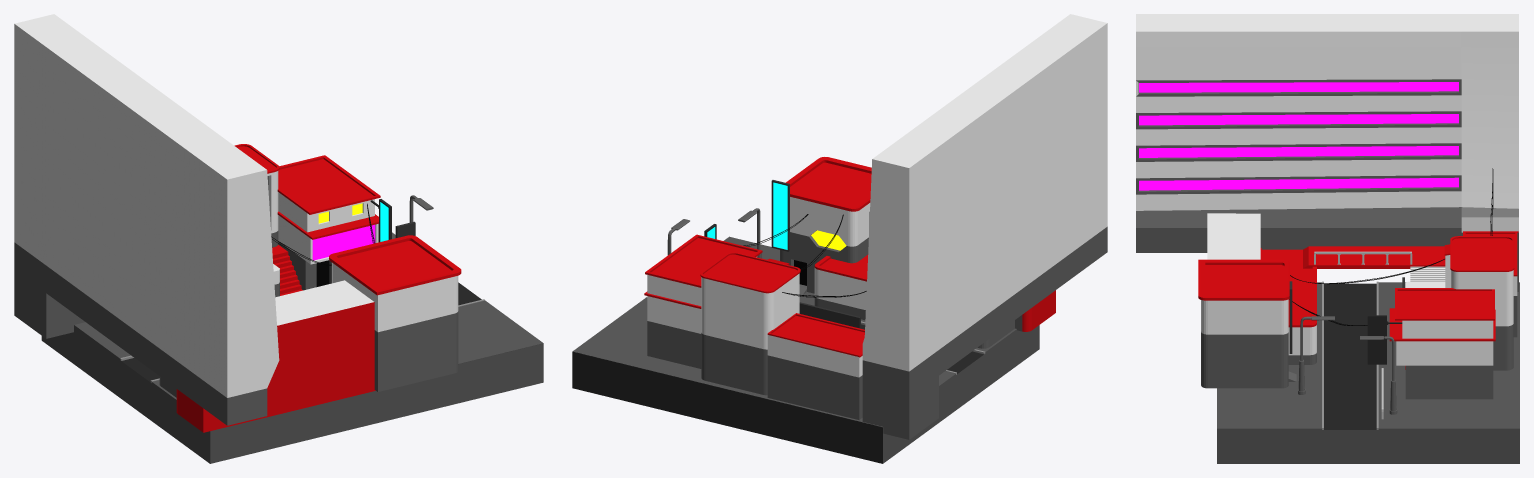
The model's file is Cyberpunk Street.fbx.
The picture shows the model from 3 angles, left to right: view 1: azimuth 30°, elevation 25°; view 2: azimuth 150°, elevation 25°; view 3: azimuth 270°, elevation 25°; orthographic projection. The views are drawn at different scales.
Parts seen in each view (by area): view 1: Massive Wall, Bridge, Street, Building 1, Building 2, Screen Attached; view 2: Massive Wall, Street, Bridge, Building 2, Building 4, Building 1, Screen.002, Screen; view 3: Massive Wall, Street, Bridge, Building 1, Building 2, Screen Attached, Building 4, Stairs, BézierCurve, Rails, Streetlight, Streetlight.001.
Boxes of the visible parts, box(x1,y1,x2,y2) form: Massive Wall: box(14, 14, 279, 425); Bridge: box(159, 235, 461, 432); Street: box(41, 223, 543, 463); Building 1: box(277, 155, 380, 290); Building 2: box(234, 144, 279, 247); Screen Attached: box(370, 199, 391, 242); Massive Wall: box(862, 14, 1107, 439); Street: box(572, 236, 1039, 463); Bridge: box(780, 157, 1055, 348); Building 2: box(700, 252, 800, 395); Building 4: box(767, 313, 864, 419); Building 1: box(644, 234, 762, 368); Screen.002: box(771, 180, 789, 251); Screen: box(799, 302, 860, 328); Massive Wall: box(1136, 14, 1518, 291); Street: box(1217, 281, 1519, 463); Bridge: box(1198, 213, 1445, 388); Building 1: box(1389, 288, 1495, 399); Building 2: box(1444, 236, 1514, 370); Screen Attached: box(1367, 315, 1402, 364); Building 4: box(1463, 231, 1518, 337); Stairs: box(1410, 266, 1445, 281); BézierCurve: box(1289, 168, 1493, 325); Rails: box(1314, 251, 1412, 264); Streetlight: box(1298, 316, 1334, 394); Streetlight.001: box(1360, 336, 1397, 414).
Bounding box in the file's own units: 110050 × 94335 × 112618.
